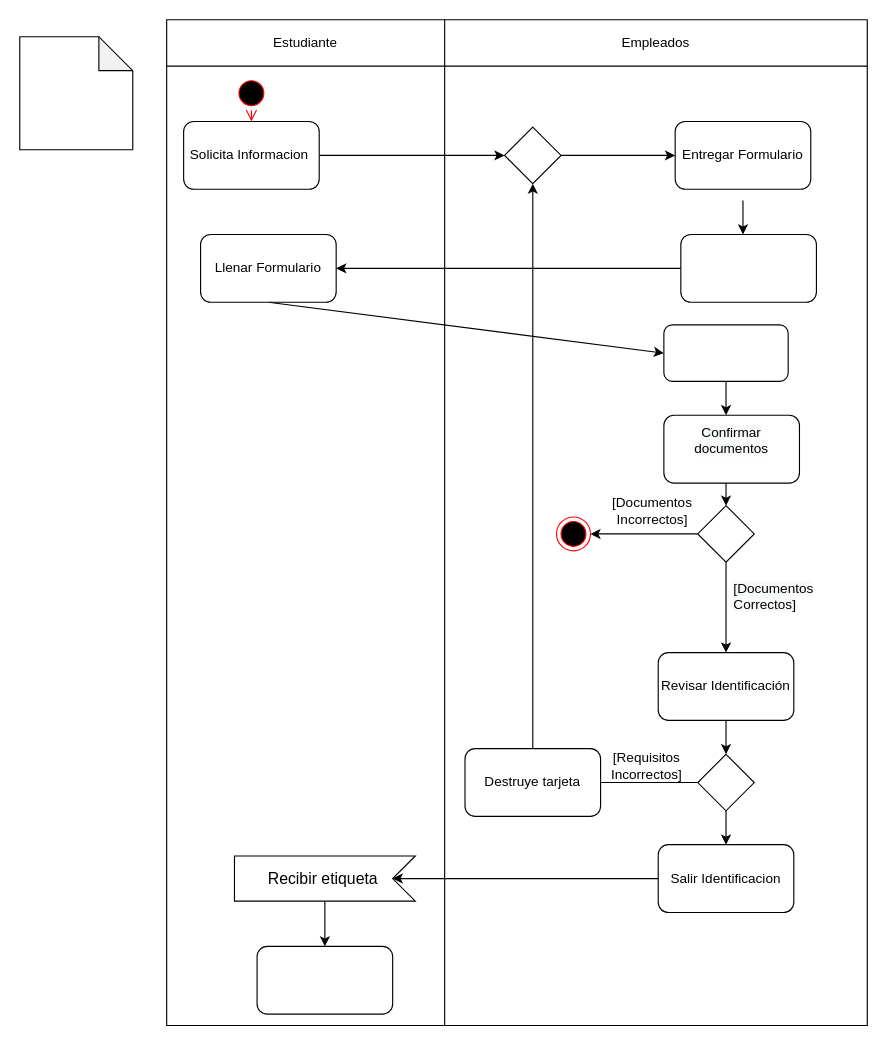
Image size: 887x1045. Some labels were removed from this diagram. Each missing label, with the centre of its shape:
"Crea Indentificación" belongs at (748,267).
"JOHNNY ARMIJOS RAMON" belongs at (76,93).
"Pagar etiqueta" belongs at (324,979).
"Revisar documento" belongs at (725,352).
